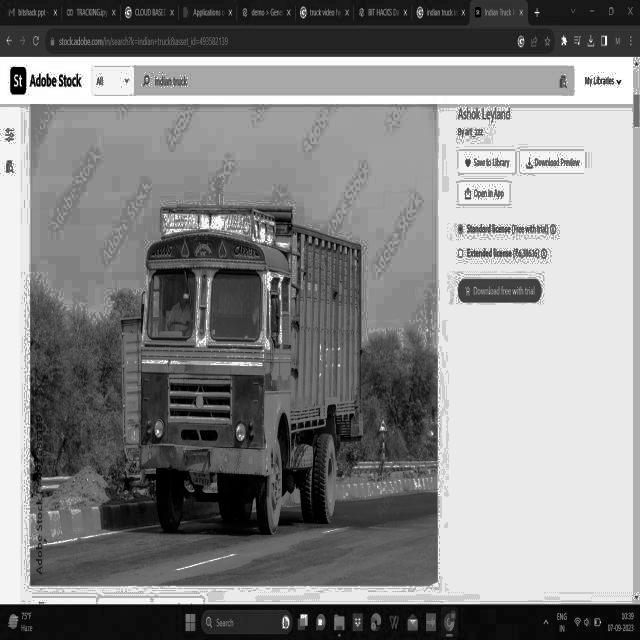HCV: (109, 158, 393, 549)
